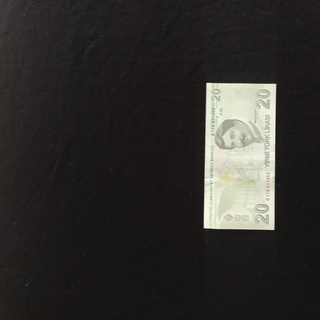20TLBack: (203, 82, 277, 231)
